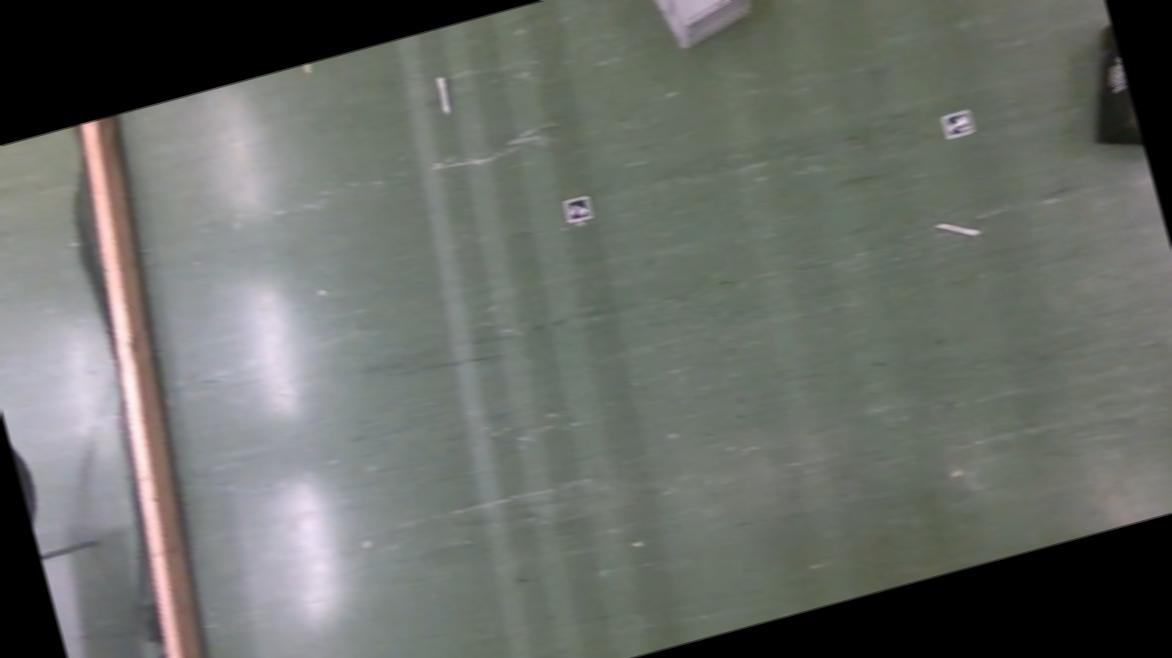probes: (938, 215, 981, 245), (434, 76, 454, 115)
rako: (1066, 12, 1147, 167), (638, 0, 768, 57)
